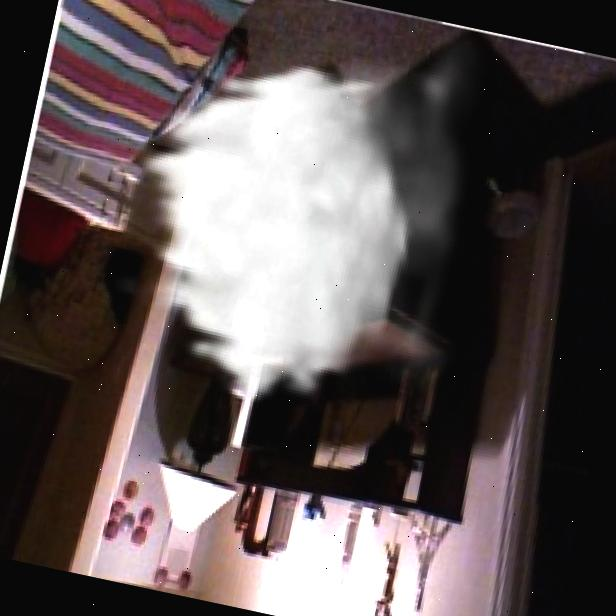smoke: (84, 0, 526, 447)
